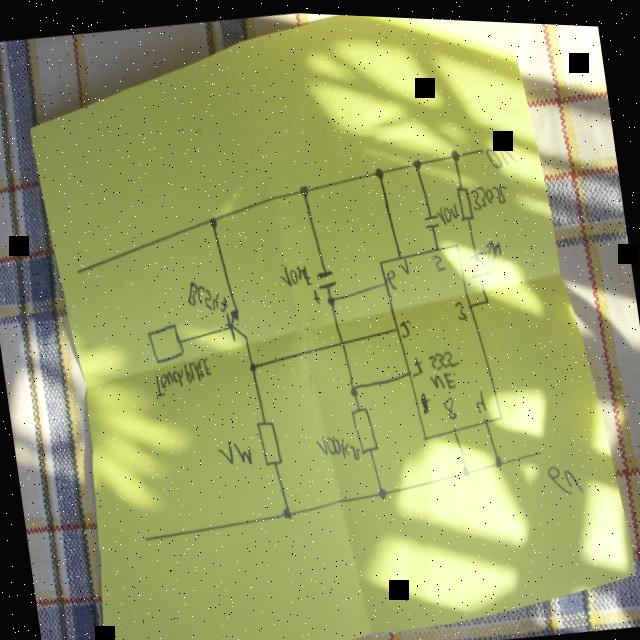capacitor: (308, 265, 339, 304), (423, 208, 441, 229)
crossover: (338, 336, 347, 347)
diode: (465, 233, 506, 278)
junction: (492, 450, 504, 467), (376, 484, 388, 498), (298, 182, 310, 196), (373, 164, 385, 178), (207, 214, 219, 228), (282, 505, 294, 519), (411, 154, 423, 168), (348, 380, 358, 396), (326, 292, 338, 305), (248, 359, 258, 373), (450, 145, 460, 159), (460, 462, 470, 475), (484, 294, 491, 302)
resistor: (350, 402, 380, 454), (255, 417, 283, 467), (456, 180, 474, 220)
terminal: (145, 320, 186, 366), (142, 534, 152, 543), (75, 266, 84, 276), (536, 443, 543, 453), (478, 142, 484, 152)
text: (151, 353, 215, 400), (184, 275, 230, 316), (314, 427, 362, 464), (426, 344, 464, 390), (546, 457, 584, 494), (469, 178, 510, 208), (216, 435, 254, 467), (276, 260, 314, 288), (484, 139, 517, 169), (435, 198, 460, 224), (441, 391, 458, 418), (473, 385, 488, 411), (409, 352, 425, 376), (385, 265, 399, 289), (453, 296, 468, 318), (431, 250, 446, 271), (399, 316, 413, 335), (398, 254, 411, 274)
transistor: (222, 304, 250, 342)
